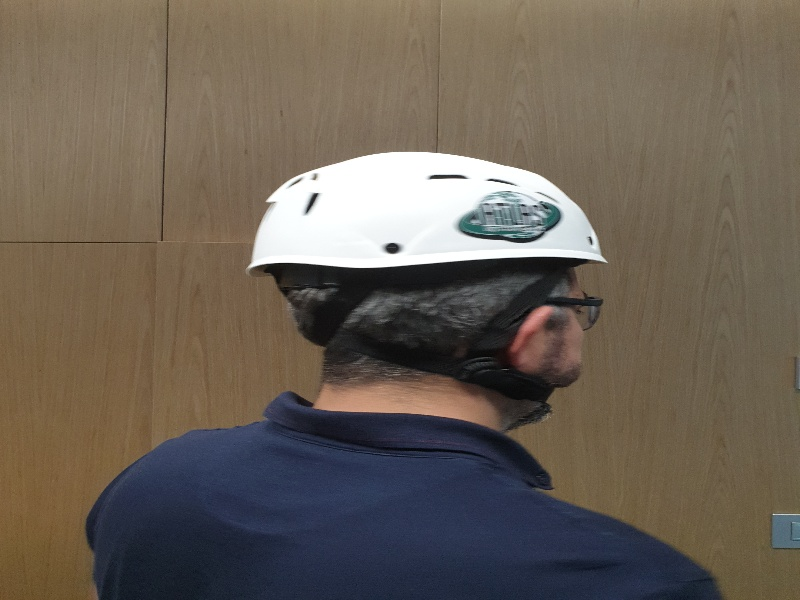Baret: (251, 152, 606, 266)
